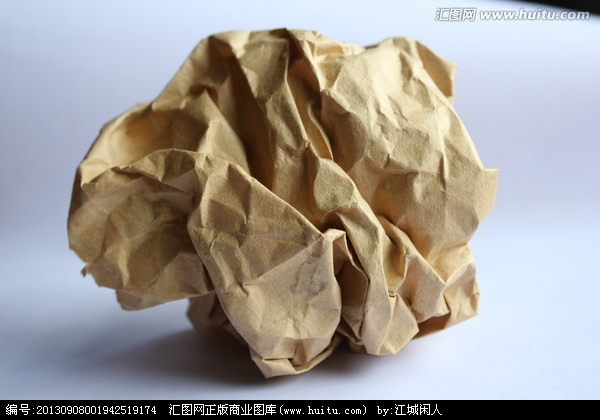flexible: (68, 31, 500, 379)
